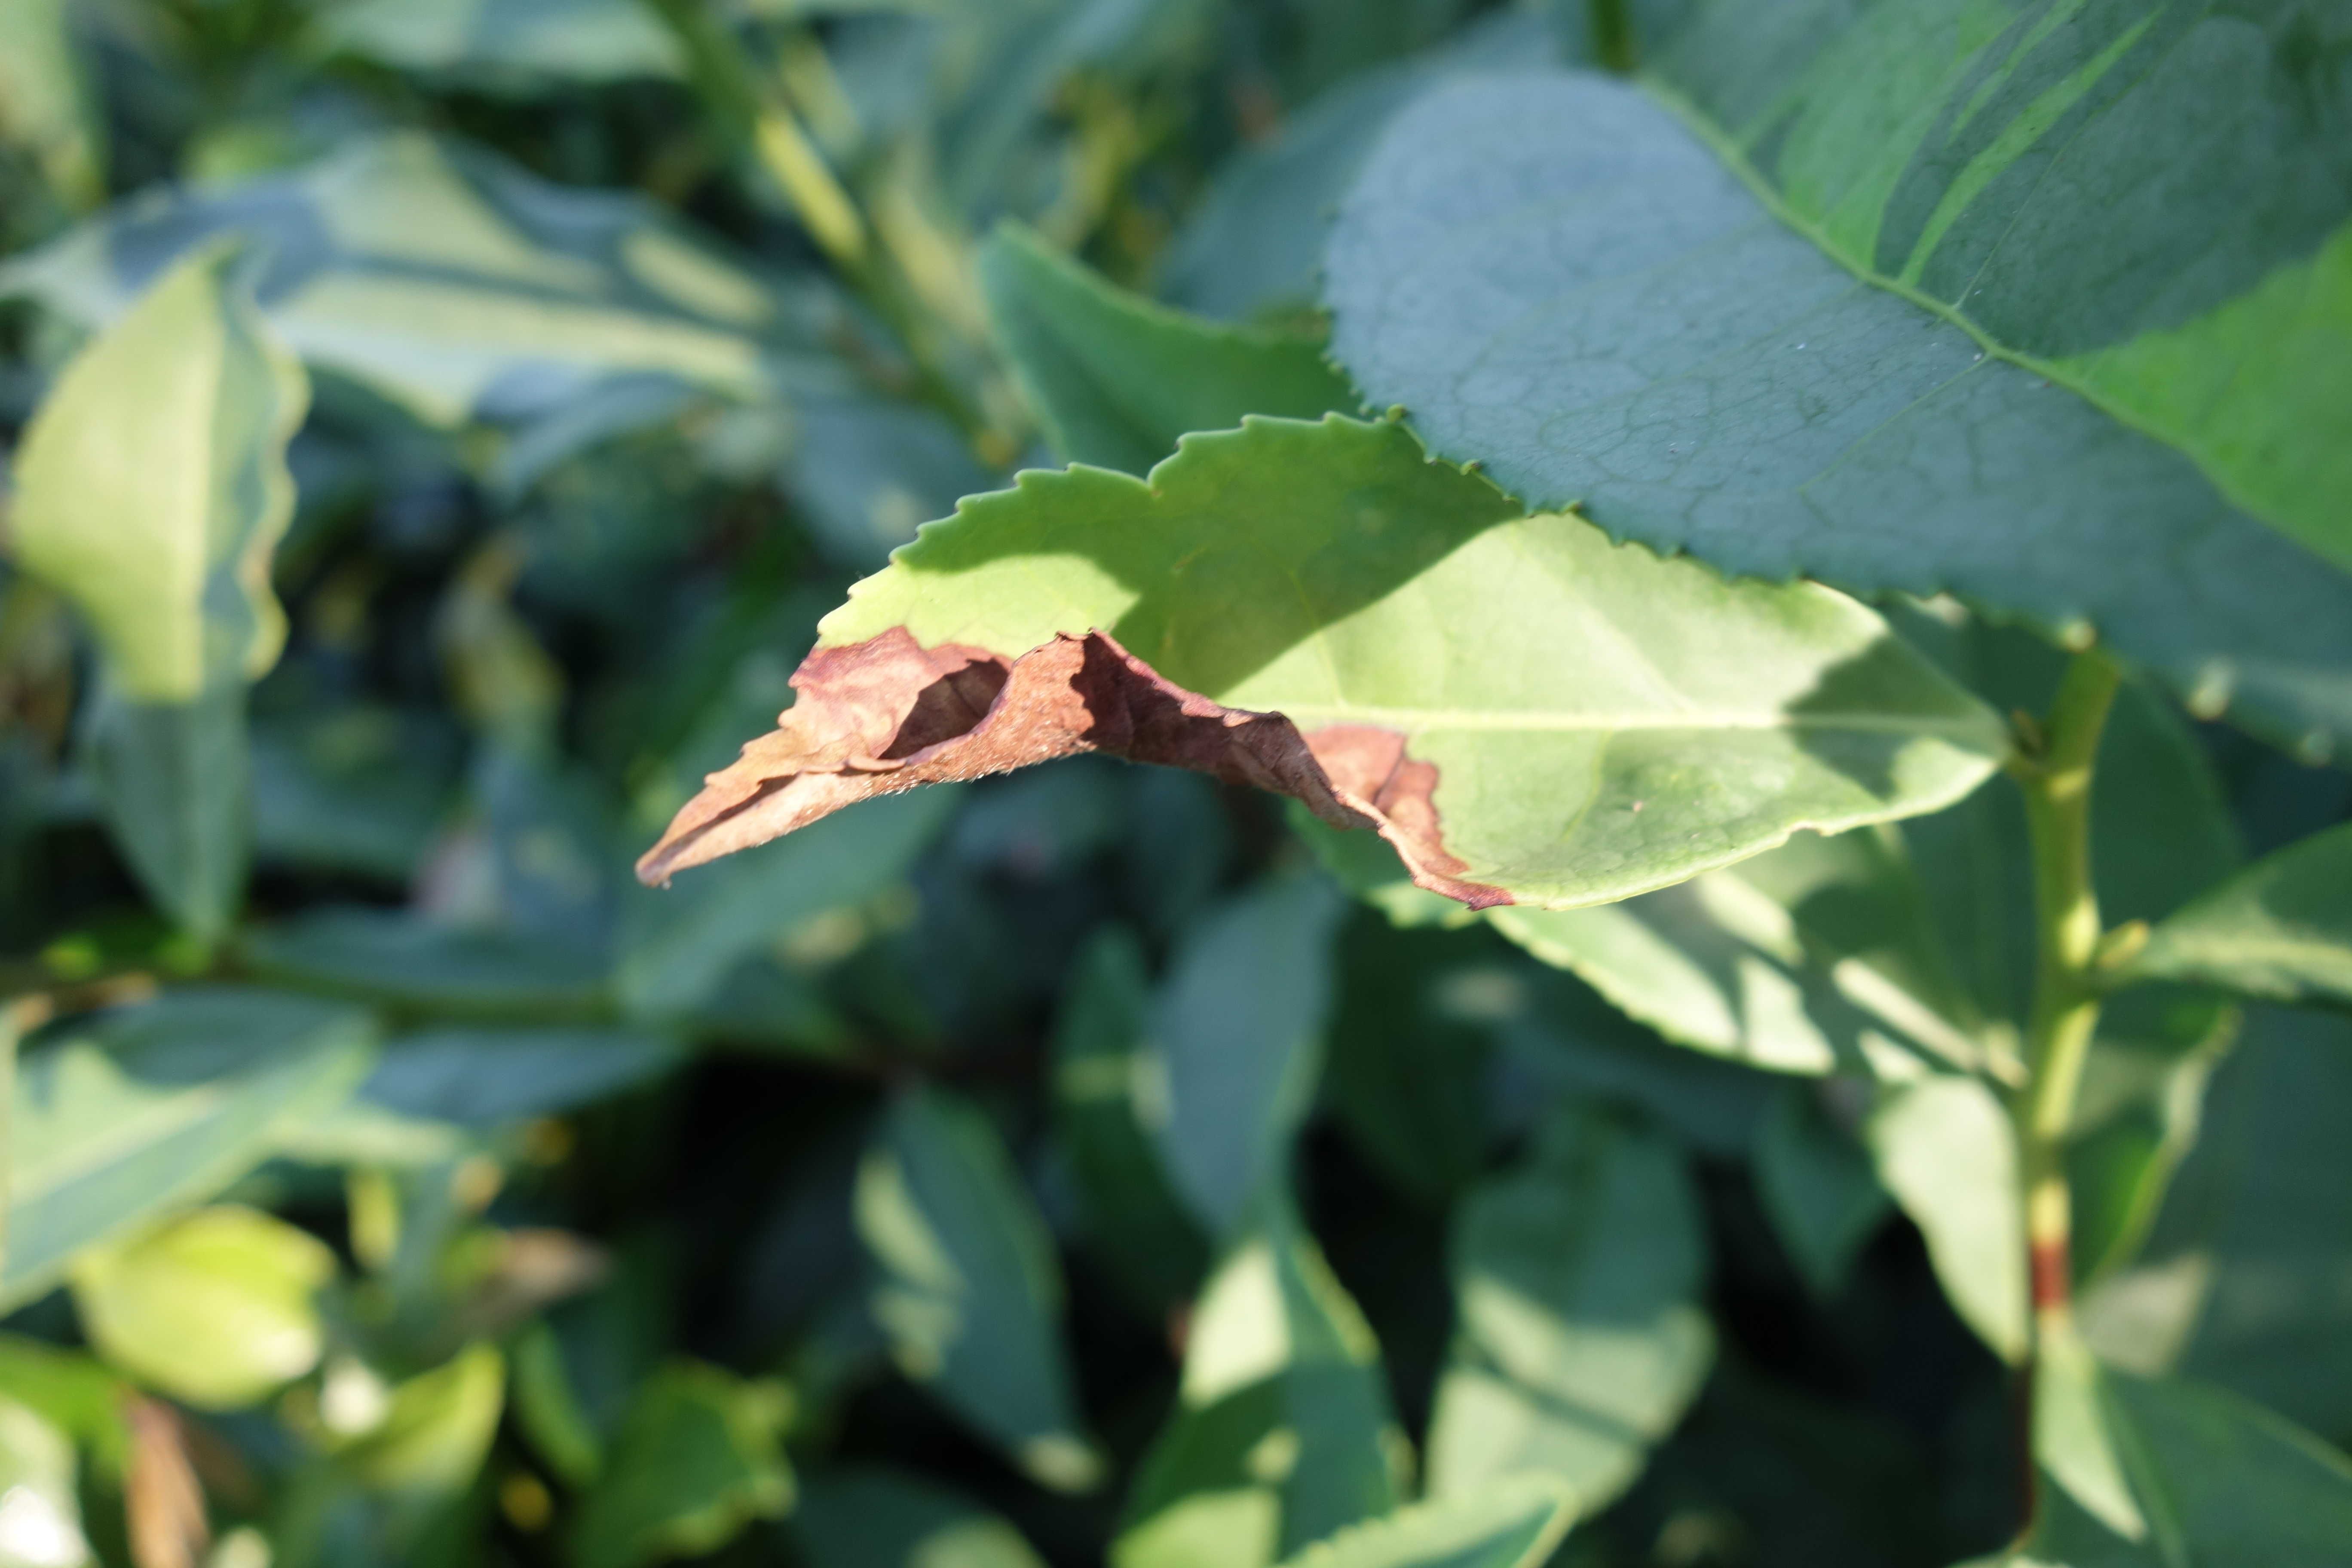tanju_high: (628, 408, 2016, 917)
